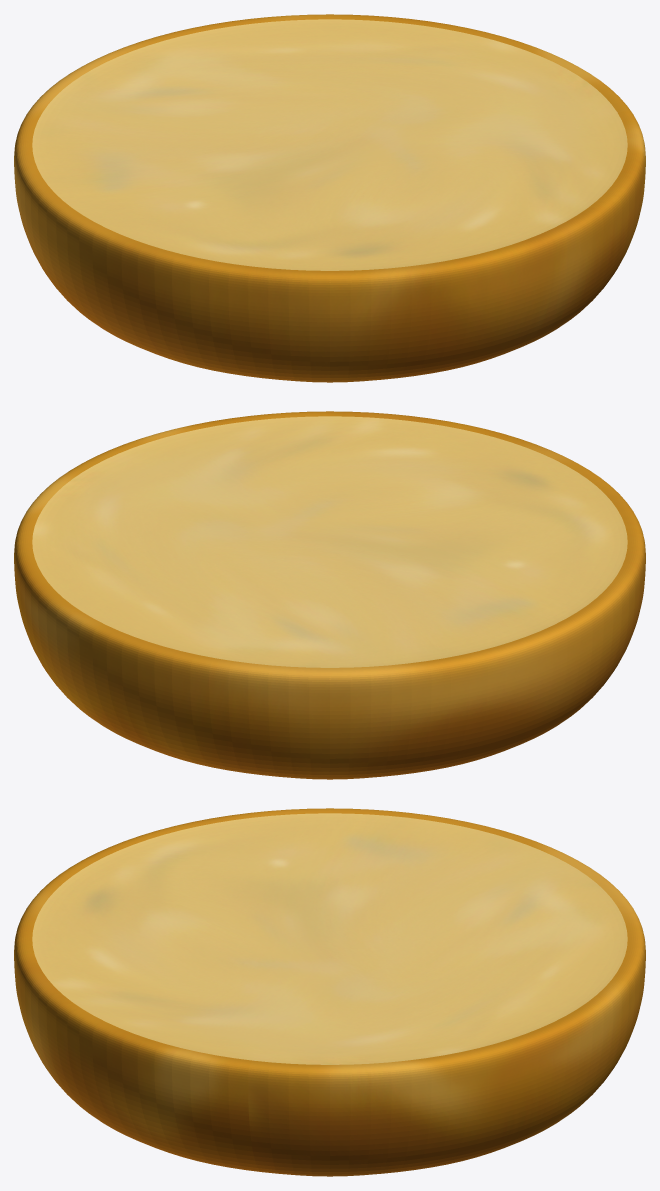
Rendered from bottom_bun.obj.
The picture shows the model from 3 angles, top to bottom: view 1: azimuth 30°, elevation 25°; view 2: azimuth 150°, elevation 25°; view 3: azimuth 270°, elevation 25°; orthographic projection.
Visible parts, largest first — view 1: Cylinder; view 2: Cylinder; view 3: Cylinder.
Part boxes in pixels (x1=…): Cylinder: x1=14, y1=14, x2=645, y2=382; Cylinder: x1=14, y1=411, x2=645, y2=779; Cylinder: x1=14, y1=808, x2=645, y2=1176.
Bounding box in the file's own units: 1.57 × 0.4061 × 1.57.
1 material, 1 textured.
